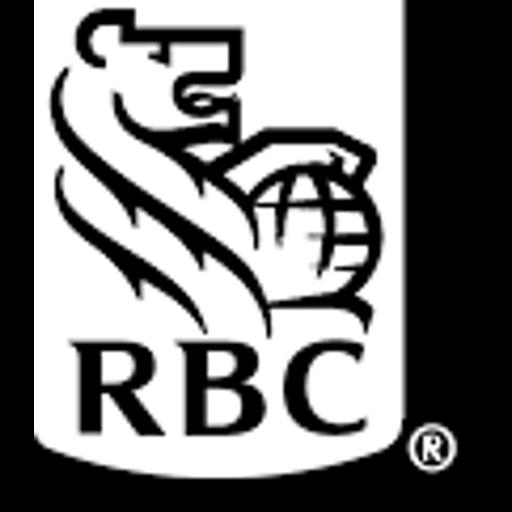RBC Royal Bank: (34, 0, 478, 512)
